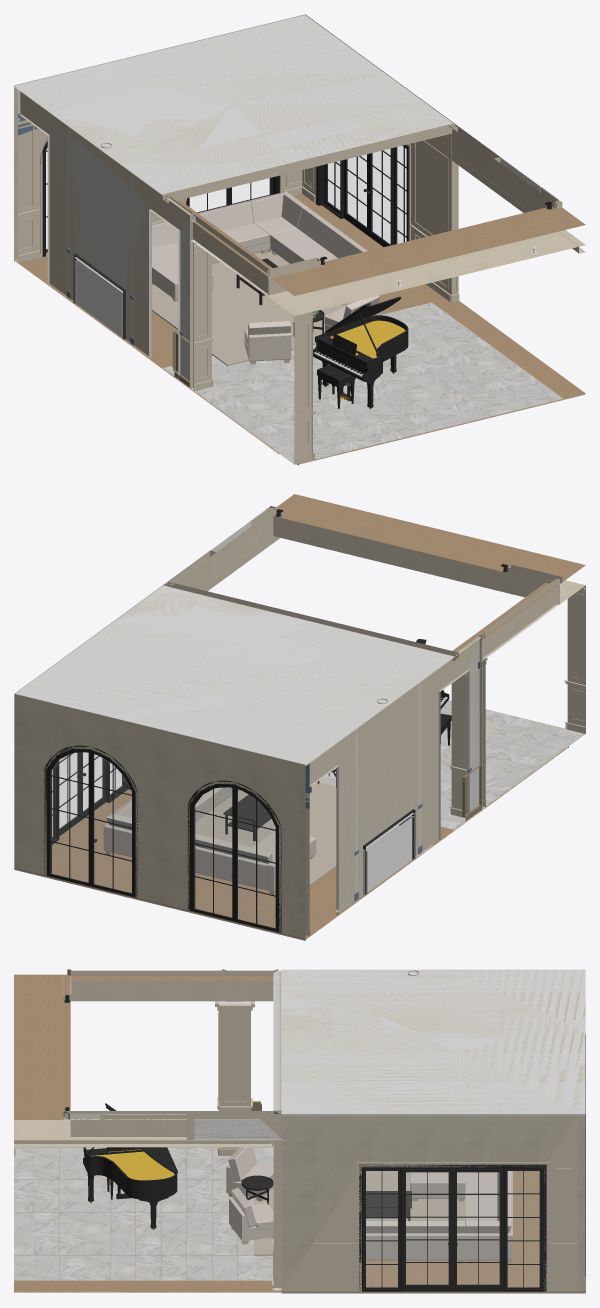
Rendered from family-room-3ef82bc538ff.glb.
The picture shows the model from 3 angles, top to bottom: view 1: azimuth 30°, elevation 25°; view 2: azimuth 150°, elevation 25°; view 3: azimuth 270°, elevation 25°; orthographic projection.
Parts seen in each view (by area): view 1: family-room-4a969f5cc1ae3dfe, family-room-ba376bd68a22f7f3, family-room-50d54560d247b537, family-room-2575515a05775d9e, family-room-55ff1dfd7b659ec1, family-room-9d80b152e3f2ea10, family-room-3b0077416469e01b, family-room-3d5fbc3a2a5f9c05, family-room-88f8978e186bf417, family-room-1a893a20b01c9fd3, family-room-969b861f9850351e, family-room-e706aa16b4547c37 (+19 smaller); view 2: family-room-4a969f5cc1ae3dfe, family-room-969b861f9850351e, family-room-9d80b152e3f2ea10, family-room-2575515a05775d9e, family-room-316290d012168088, family-room-b57b1dfcc6ff1bca, family-room-50d54560d247b537, family-room-3b0077416469e01b, family-room-55ff1dfd7b659ec1, family-room-ba376bd68a22f7f3, family-room-88f8978e186bf417, family-room-3d5fbc3a2a5f9c05 (+13 smaller); view 3: family-room-4a969f5cc1ae3dfe, family-room-e706aa16b4547c37, family-room-ba376bd68a22f7f3, family-room-3d5fbc3a2a5f9c05, family-room-50d54560d247b537, family-room-2575515a05775d9e, family-room-3b0077416469e01b, family-room-0bd714ee3619f5b4, family-room-1a893a20b01c9fd3, family-room-d20359ea22d8532c, family-room-65a368b7809647e4, family-room-a8ea7d4d2b17a47a (+20 smaller).
Part boxes in pixels (x1=…): family-room-4a969f5cc1ae3dfe: x1=14, y1=15, x2=453, y2=195; family-room-ba376bd68a22f7f3: x1=163, y1=302, x2=563, y2=463; family-room-50d54560d247b537: x1=14, y1=14, x2=454, y2=194; family-room-2575515a05775d9e: x1=191, y1=162, x2=585, y2=315; family-room-55ff1dfd7b659ec1: x1=18, y1=89, x2=189, y2=380; family-room-9d80b152e3f2ea10: x1=20, y1=91, x2=190, y2=379; family-room-3b0077416469e01b: x1=14, y1=194, x2=585, y2=464; family-room-3d5fbc3a2a5f9c05: x1=316, y1=145, x2=408, y2=246; family-room-88f8978e186bf417: x1=152, y1=251, x2=384, y2=365; family-room-1a893a20b01c9fd3: x1=313, y1=297, x2=408, y2=409; family-room-969b861f9850351e: x1=14, y1=86, x2=302, y2=262; family-room-e706aa16b4547c37: x1=302, y1=134, x2=447, y2=291; family-room-4a969f5cc1ae3dfe: x1=14, y1=585, x2=454, y2=765; family-room-969b861f9850351e: x1=14, y1=695, x2=309, y2=938; family-room-9d80b152e3f2ea10: x1=309, y1=639, x2=479, y2=911; family-room-2575515a05775d9e: x1=206, y1=494, x2=585, y2=660; family-room-316290d012168088: x1=187, y1=780, x2=281, y2=932; family-room-b57b1dfcc6ff1bca: x1=44, y1=745, x2=137, y2=897; family-room-50d54560d247b537: x1=14, y1=584, x2=450, y2=765; family-room-3b0077416469e01b: x1=14, y1=746, x2=568, y2=939; family-room-55ff1dfd7b659ec1: x1=309, y1=637, x2=481, y2=913; family-room-ba376bd68a22f7f3: x1=319, y1=700, x2=584, y2=829; family-room-88f8978e186bf417: x1=195, y1=782, x2=336, y2=885; family-room-3d5fbc3a2a5f9c05: x1=52, y1=752, x2=130, y2=844; family-room-4a969f5cc1ae3dfe: x1=281, y1=969, x2=585, y2=1115; family-room-e706aa16b4547c37: x1=281, y1=1115, x2=577, y2=1291; family-room-ba376bd68a22f7f3: x1=14, y1=1147, x2=273, y2=1280; family-room-3d5fbc3a2a5f9c05: x1=359, y1=1164, x2=546, y2=1291; family-room-50d54560d247b537: x1=281, y1=969, x2=585, y2=1114; family-room-2575515a05775d9e: x1=14, y1=974, x2=193, y2=1136; family-room-3b0077416469e01b: x1=14, y1=1171, x2=585, y2=1292; family-room-0bd714ee3619f5b4: x1=70, y1=976, x2=273, y2=1001; family-room-1a893a20b01c9fd3: x1=83, y1=1103, x2=177, y2=1229; family-room-d20359ea22d8532c: x1=366, y1=1221, x2=465, y2=1263; family-room-65a368b7809647e4: x1=219, y1=1001, x2=250, y2=1148; family-room-a8ea7d4d2b17a47a: x1=14, y1=1136, x2=273, y2=1147.
Bounding box in the file's own units: 6.16 × 3.56 × 10.26.
46 materials, 7 textured.
